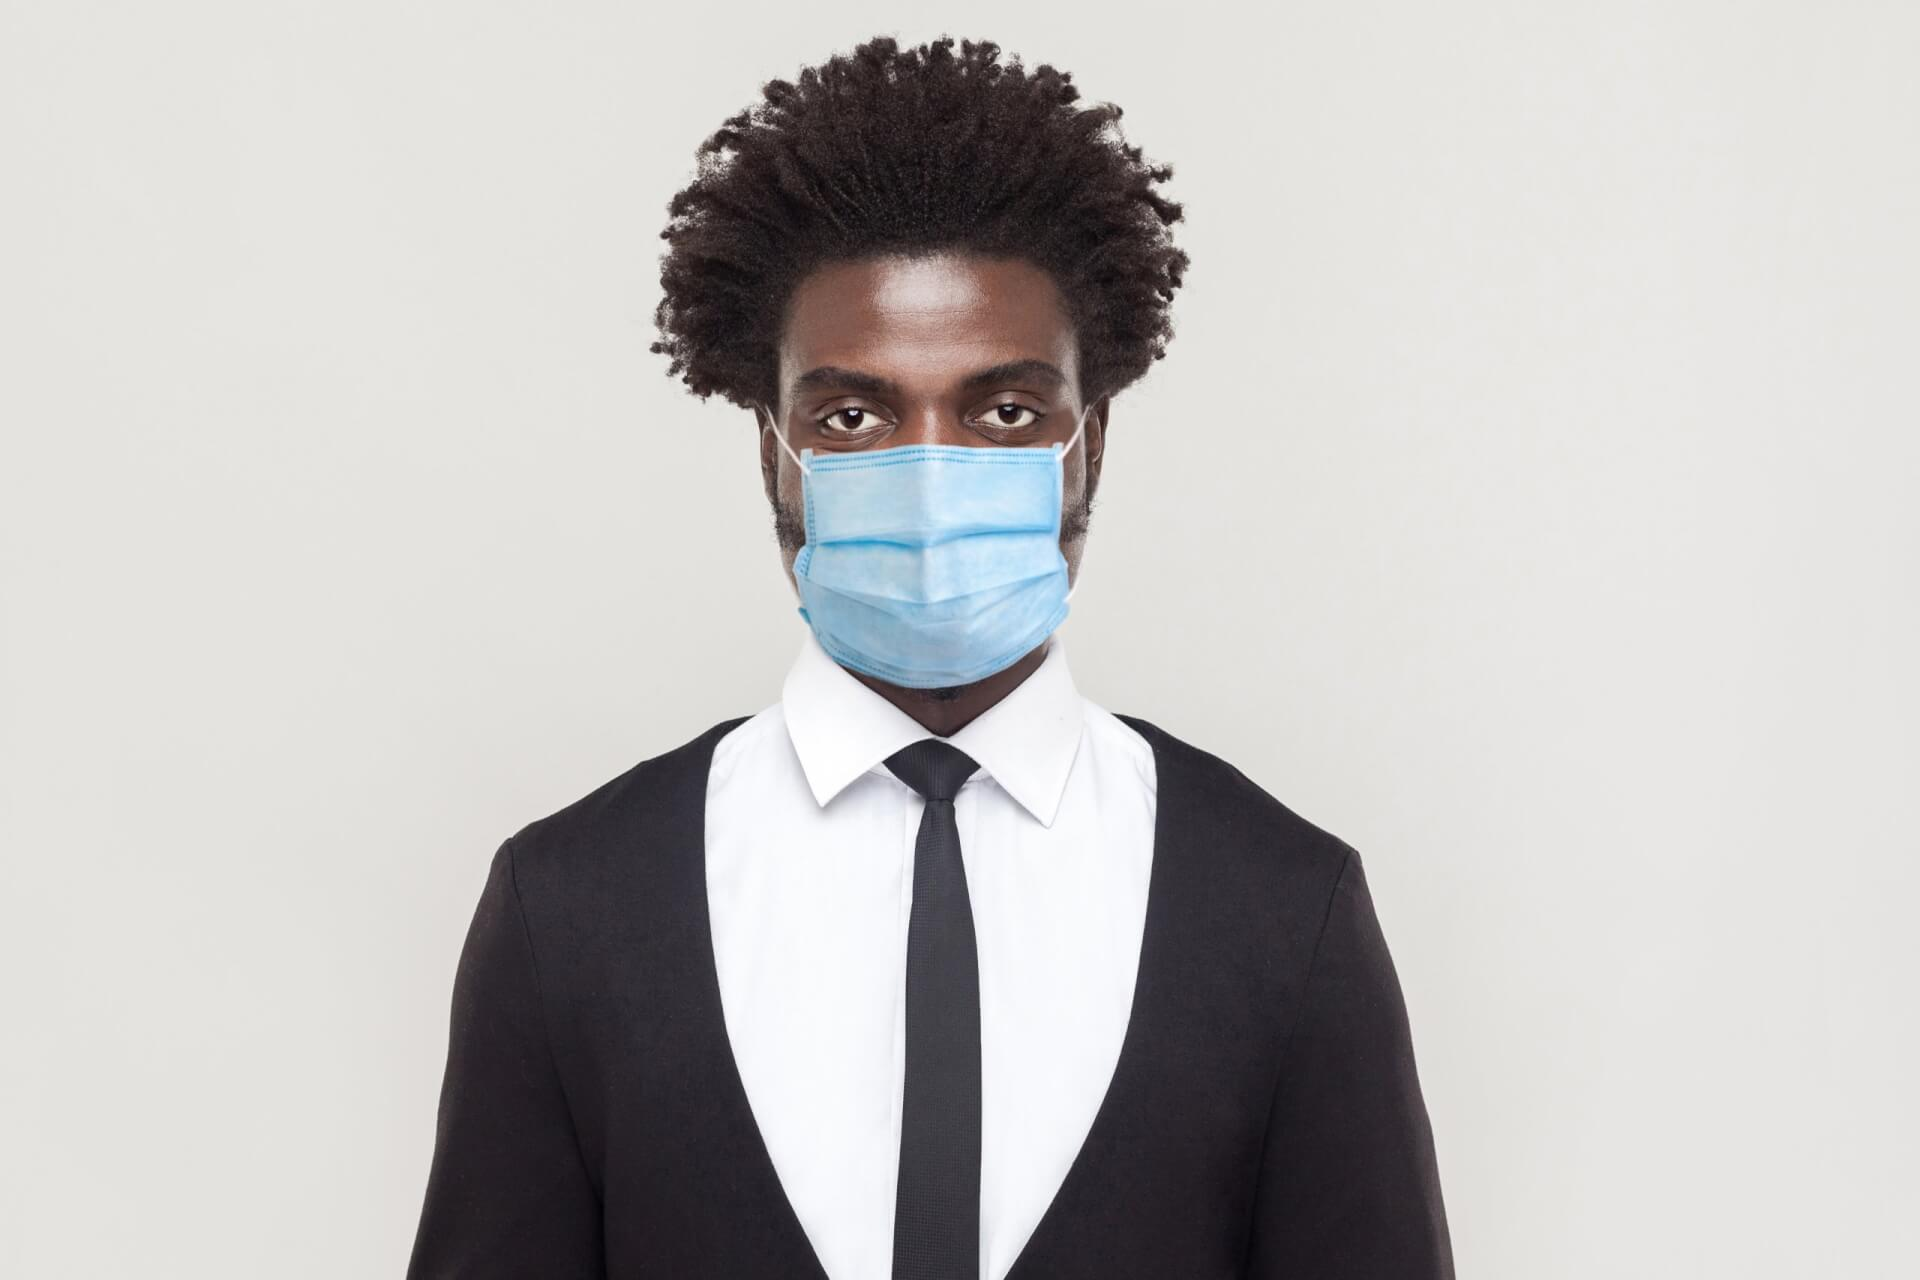with_mask: (696, 192, 1160, 703)
